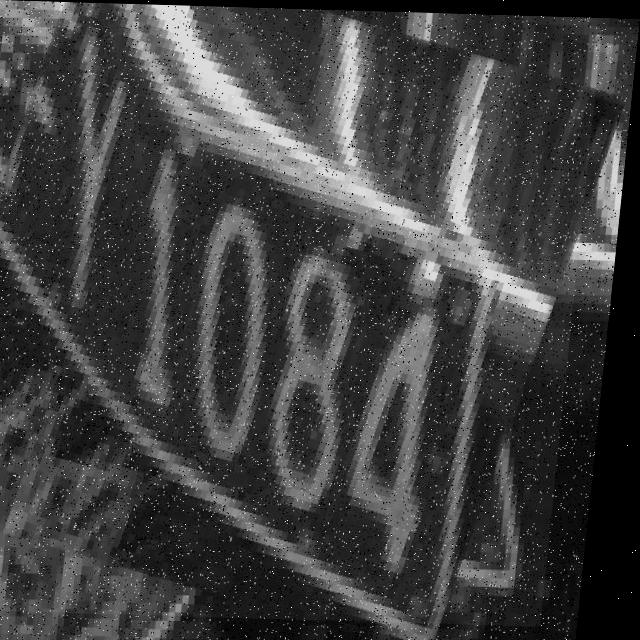LicensePlate: (0, 0, 603, 623)
